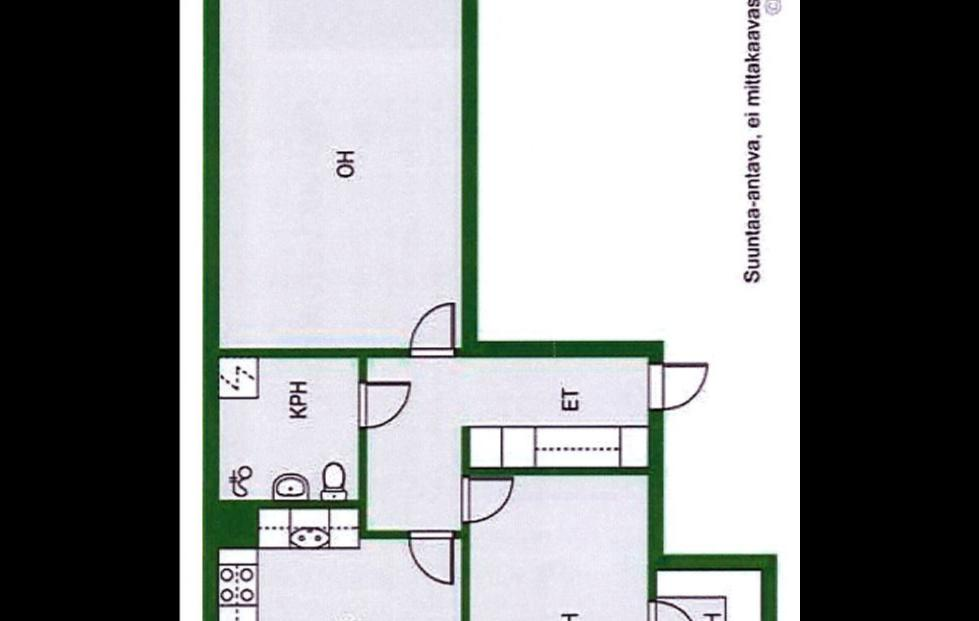door: (644, 358, 711, 412), (406, 298, 457, 362), (354, 378, 414, 430), (404, 529, 456, 588), (458, 476, 518, 524), (644, 596, 704, 621)
